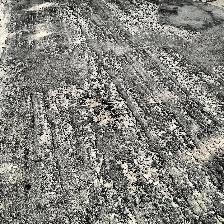pothole: (80, 95, 118, 127)
